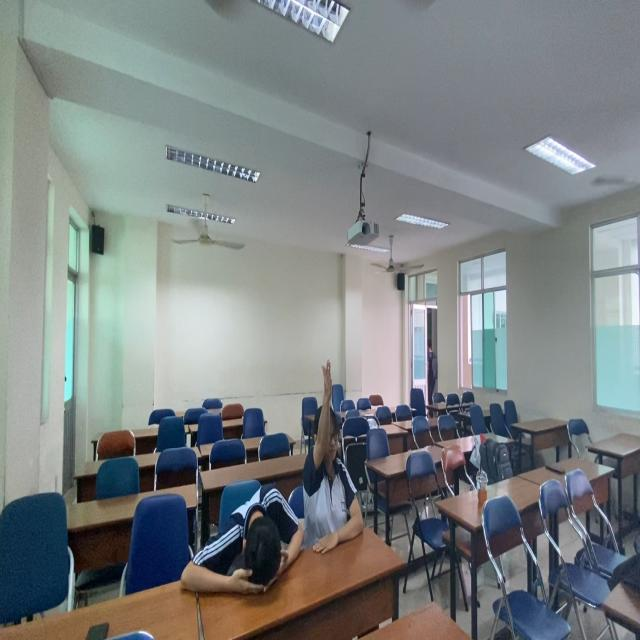raise_hand: (308, 359, 368, 562)
sleep: (178, 471, 305, 604)
